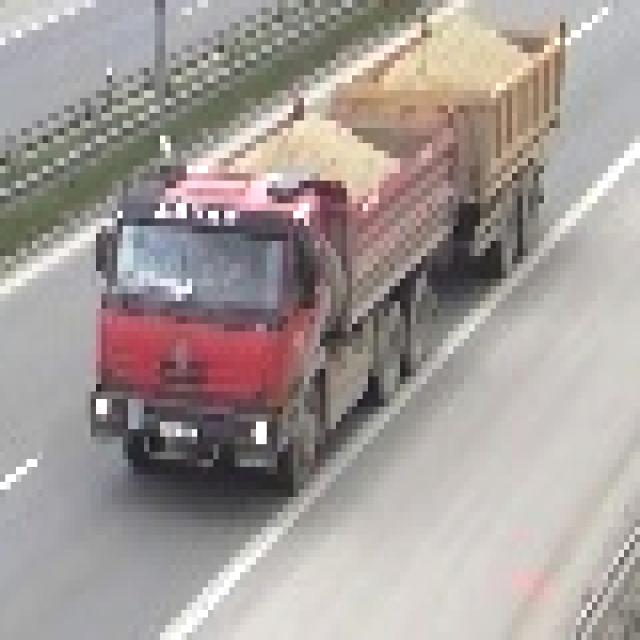truck: (91, 1, 561, 490)
